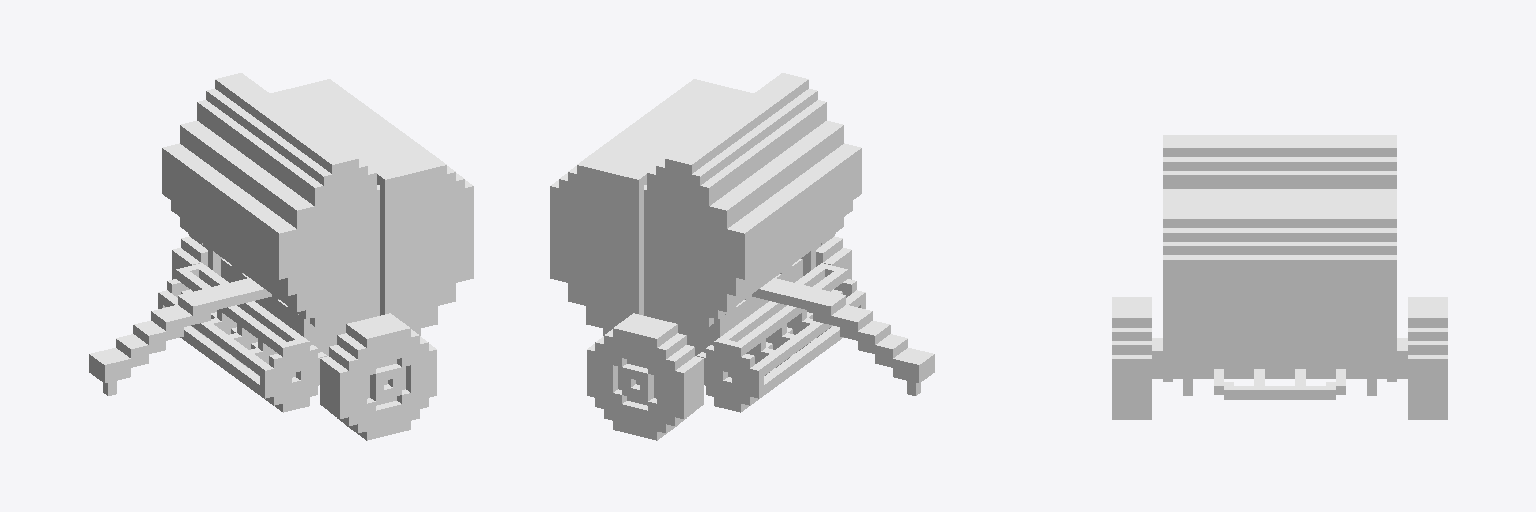
File: Baler_Straw.obj
3 renders of one model, left to right at view 1: azimuth 30°, elevation 25°; view 2: azimuth 150°, elevation 25°; view 3: azimuth 270°, elevation 25°, orthographic.
Visible parts, largest first — view 1: Baler_Straw; view 2: Baler_Straw; view 3: Baler_Straw.
Boxes of the visible parts, x1=… form: Baler_Straw: x1=89, y1=73, x2=473, y2=440; Baler_Straw: x1=550, y1=73, x2=934, y2=440; Baler_Straw: x1=1112, y1=135, x2=1447, y2=419.
Size of the model in its own units: 36 by 28 by 33.